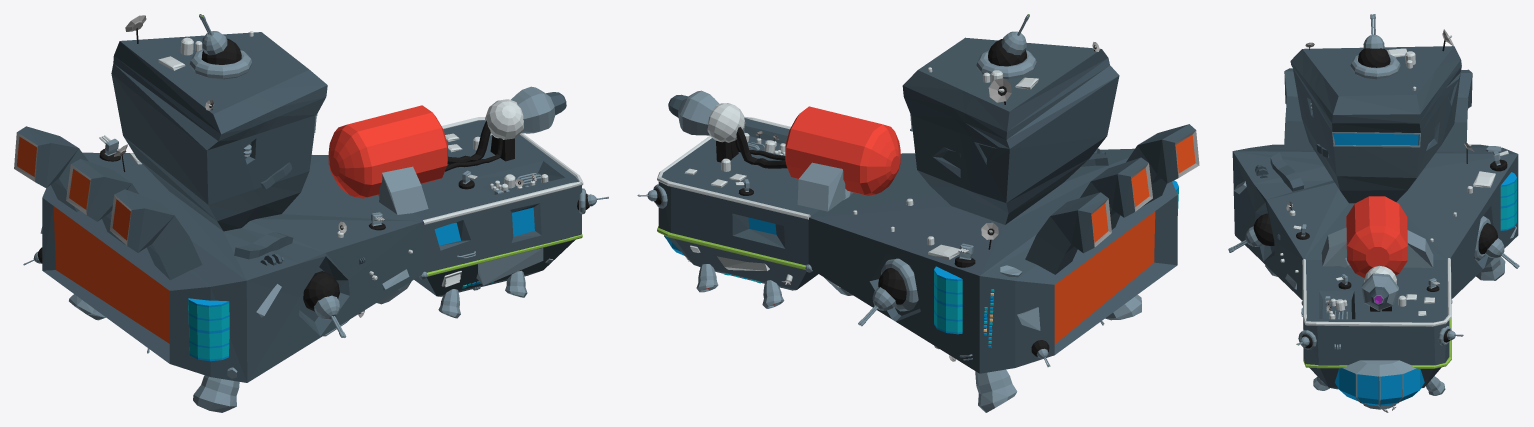
Rendered from jakersh_spaceship-warship_2le6.glb.
3 views of the same model, side by side, from view 1: azimuth 30°, elevation 25°; view 2: azimuth 150°, elevation 25°; view 3: azimuth 270°, elevation 25° (orthographic). The views are drawn at different scales.
Visible parts, largest first — view 1: group478543259, group1038560967, group37457039, group391101196, group46044107, group1704934986, group199707971, group387862185, group1654786449, group1326779587, group1200652749, group1007844735 (+6 smaller); view 2: group478543259, group1038560967, group391101196, group37457039, group46044107, group199707971, group240264077, group530513868, group2143706887, group1326779587, group181184975, group1007844735 (+6 smaller); view 3: group478543259, group1038560967, group1287906724, group37457039, group391101196, group1326779587, group199707971, group2065837562, group530513868, group240264077, group387862185, group1654786449 (+7 smaller).
Part boxes in pixels (x1,y1,x2,y2): group478543259: (42,32,581,382); group1038560967: (328,105,447,198); group37457039: (110,189,202,280); group391101196: (14,126,88,211); group46044107: (66,158,138,244); group1704934986: (188,298,229,361); group199707971: (490,86,566,161); group387862185: (379,166,428,214); group1654786449: (303,271,346,337); group1326779587: (422,117,583,224); group1200652749: (193,375,239,412); group1007844735: (485,99,523,139); group478543259: (658,37,1177,373); group1038560967: (785,106,900,195); group391101196: (1025,192,1111,274); group37457039: (1126,124,1199,206); group46044107: (1080,157,1152,229); group199707971: (668,90,738,162); group240264077: (797,162,845,211); group530513868: (934,266,962,334); group2143706887: (975,369,1017,412); group1326779587: (657,116,810,219); group181184975: (858,268,906,326); group1007844735: (707,103,745,142); group478543259: (1232,46,1518,389); group1038560967: (1346,196,1407,277); group1287906724: (1335,360,1424,409); group37457039: (1284,68,1313,150); group391101196: (1437,69,1472,150); group1326779587: (1302,258,1451,326); group199707971: (1361,273,1398,311); group2065837562: (1358,14,1390,67); group530513868: (1500,172,1516,230); group240264077: (1404,230,1433,267); group387862185: (1321,227,1346,266); group1654786449: (1228,213,1274,252).
Bounding box in the file's own units: 4.38 × 2.95 × 2.79.
